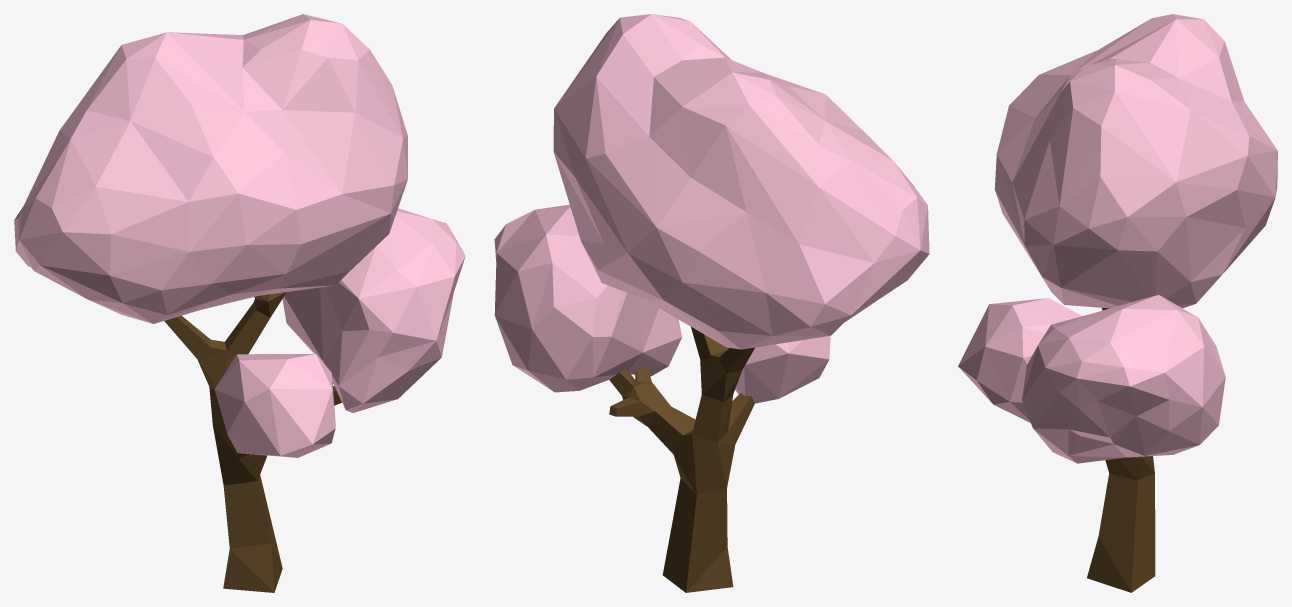
The model's file is houseTree.glb.
3 views of the same model, side by side, from view 1: azimuth 30°, elevation 25°; view 2: azimuth 150°, elevation 25°; view 3: azimuth 270°, elevation 25° (orthographic). The views are drawn at different scales.
Parts seen in each view (by area): view 1: Tree1_1; view 2: Tree1_1; view 3: Tree1_1.
Part boxes in pixels (x1=…): Tree1_1: x1=14, y1=14, x2=465, y2=592; Tree1_1: x1=494, y1=14, x2=929, y2=592; Tree1_1: x1=958, y1=14, x2=1277, y2=592.
Bounding box in the file's own units: 2.2 × 2.7 × 1.46.
